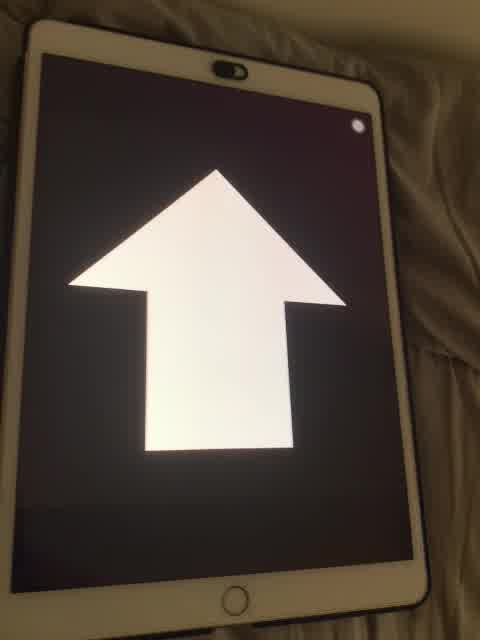up: (65, 160, 345, 456)
